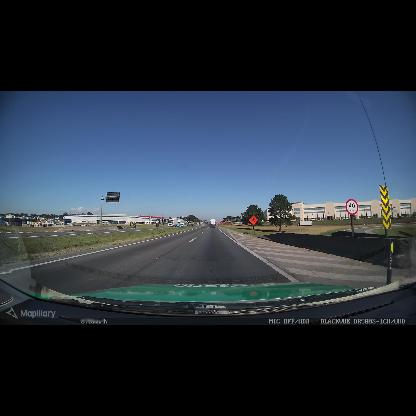A-24: (248, 215, 259, 225)
O-MP: (379, 185, 391, 229)
R-19: (346, 199, 358, 215)
